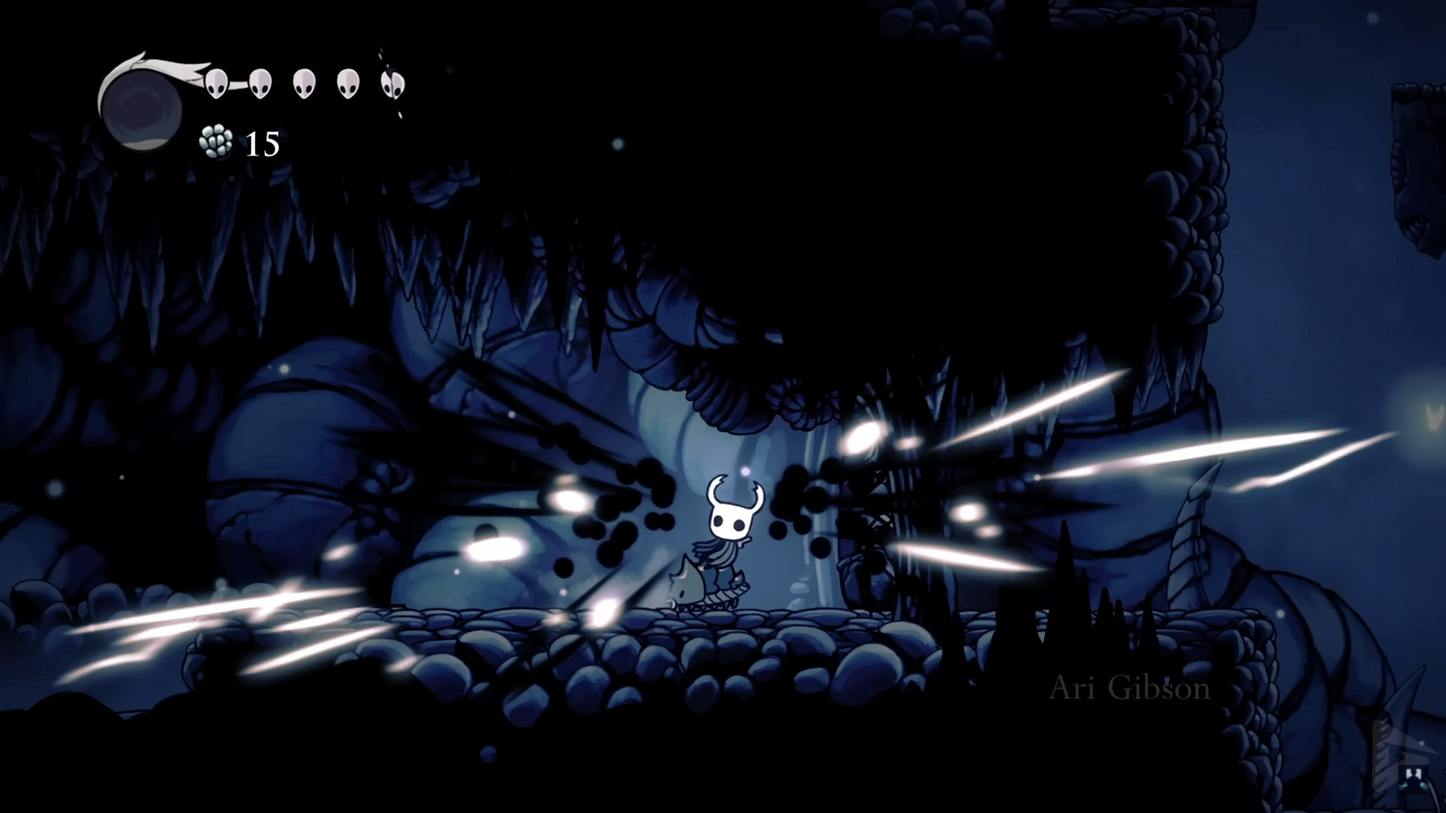HK: (690, 470, 768, 568)
